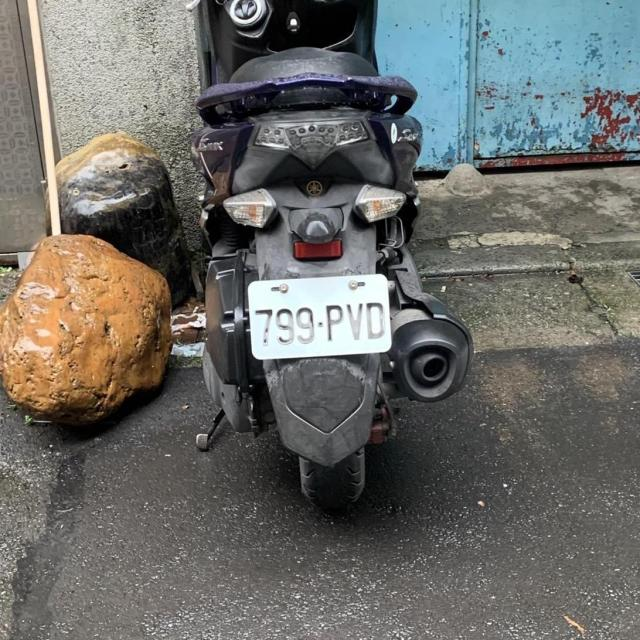W: (244, 271, 396, 362)
